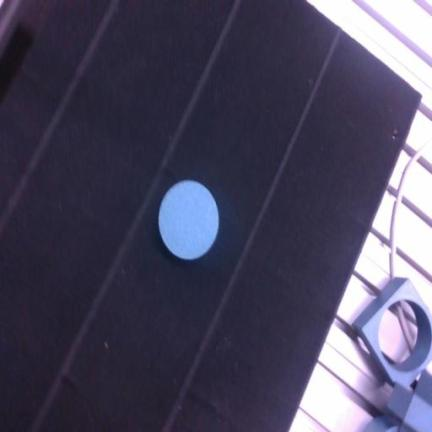cylinder: (159, 180, 219, 260)
